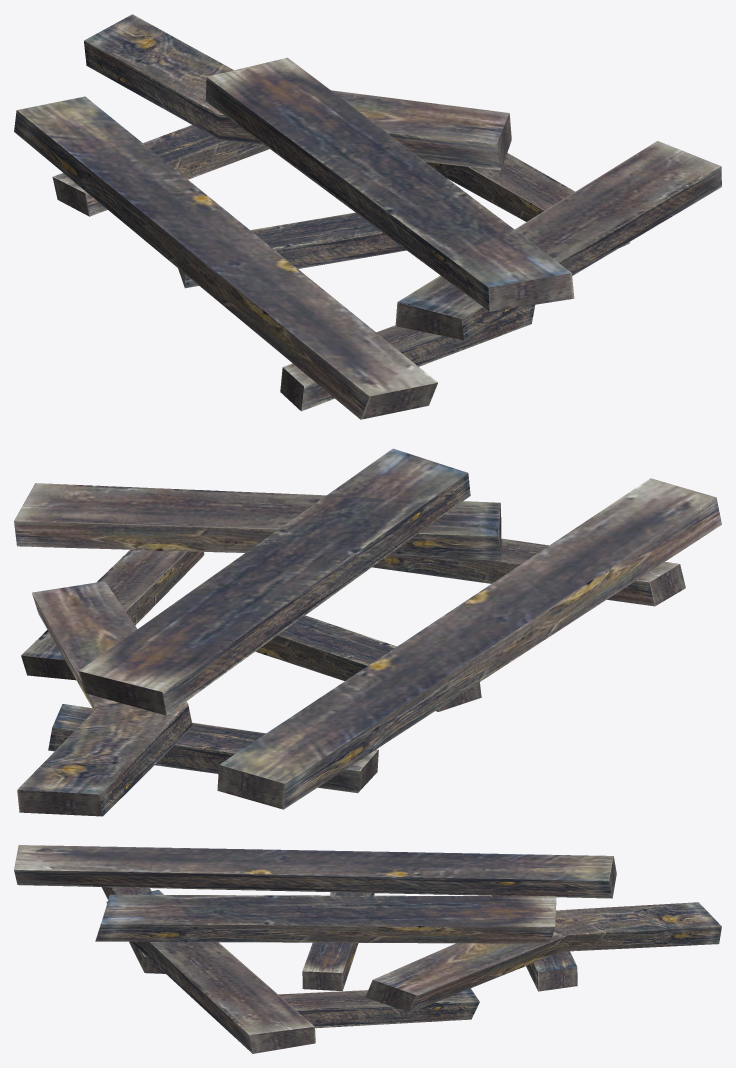
Rendered from m_way32.glb.
3 views of the same model, one above another, from view 1: azimuth 30°, elevation 25°; view 2: azimuth 150°, elevation 25°; view 3: azimuth 270°, elevation 25° (orthographic). The views are drawn at different scales.
Visible parts, largest first — view 1: m_way32; view 2: m_way32; view 3: m_way32.
Boxes of the visible parts, <box> form: m_way32: <box>14,14,721,419</box>; m_way32: <box>14,448,721,816</box>; m_way32: <box>14,845,721,1053</box>.
Size of the model in its own units: 2.39 by 0.3001 by 3.6.
Materials: 1 (1 with a texture image).
